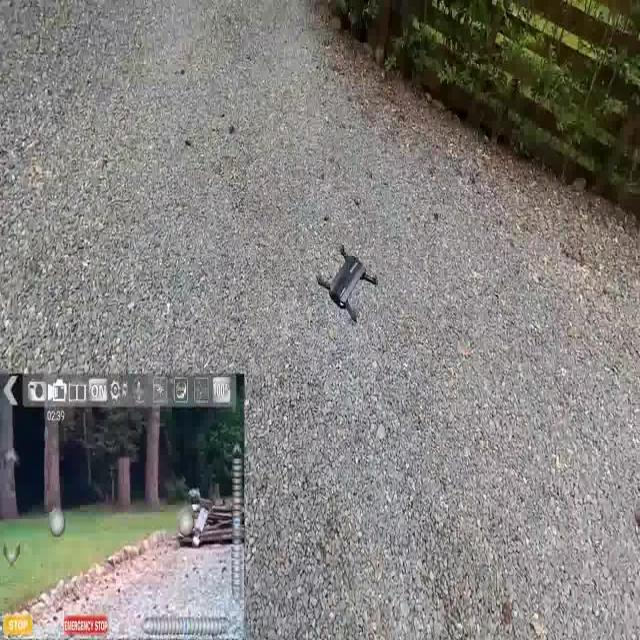drone: (315, 242, 380, 328)
